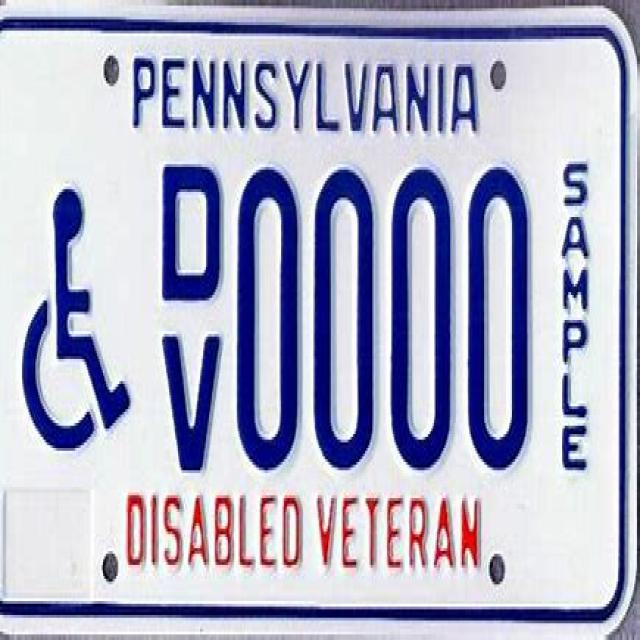car-handicap-placard: (20, 180, 136, 462)
